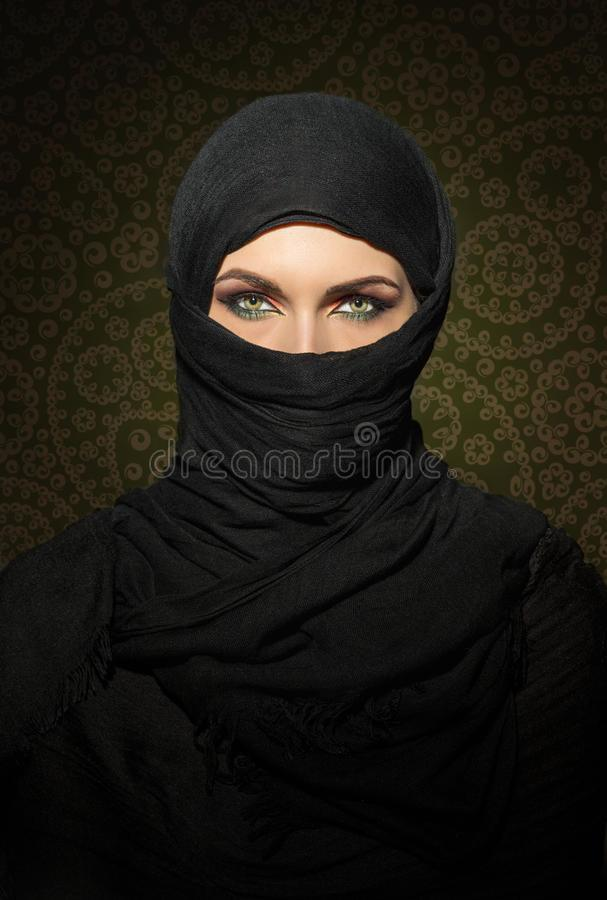No Mask: (149, 68, 570, 654)
